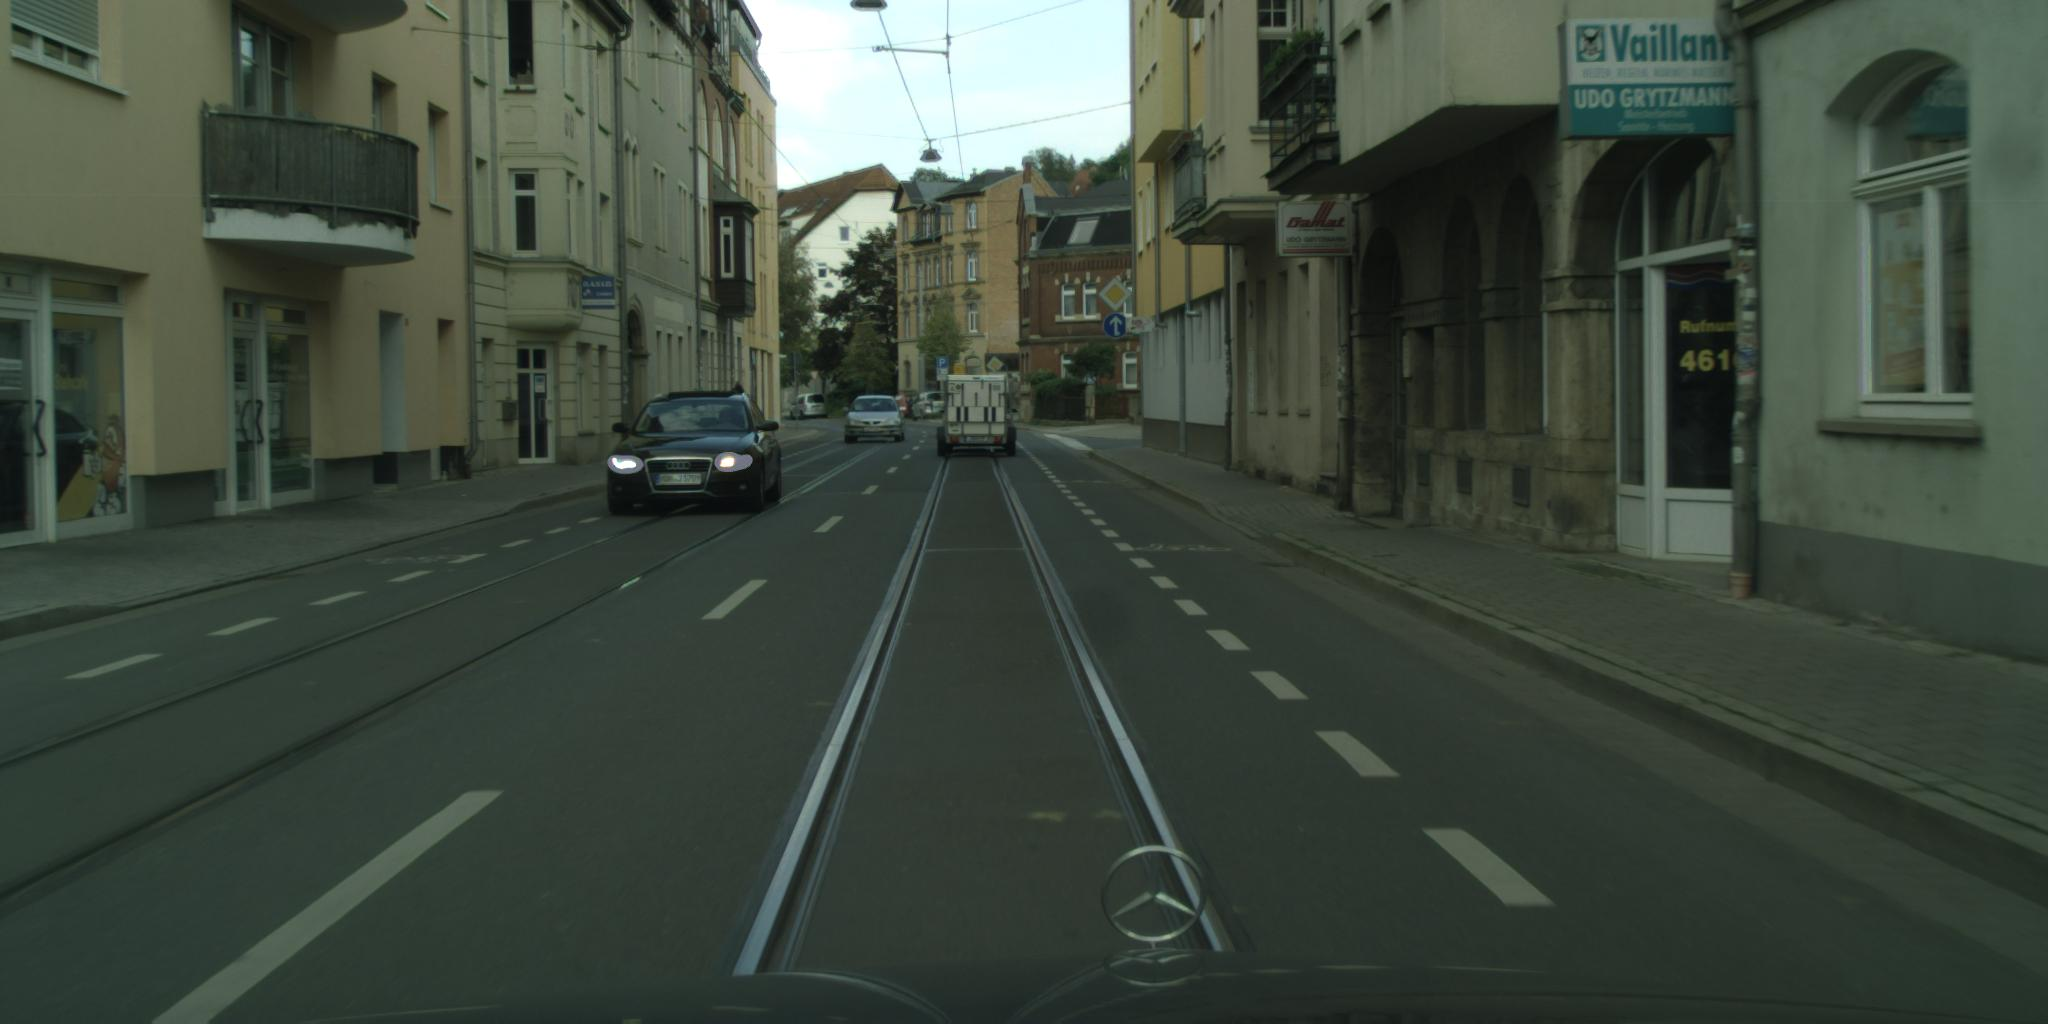car: (607, 391, 782, 517), (936, 376, 1019, 458), (845, 396, 906, 444), (909, 392, 950, 422), (790, 393, 829, 421)
